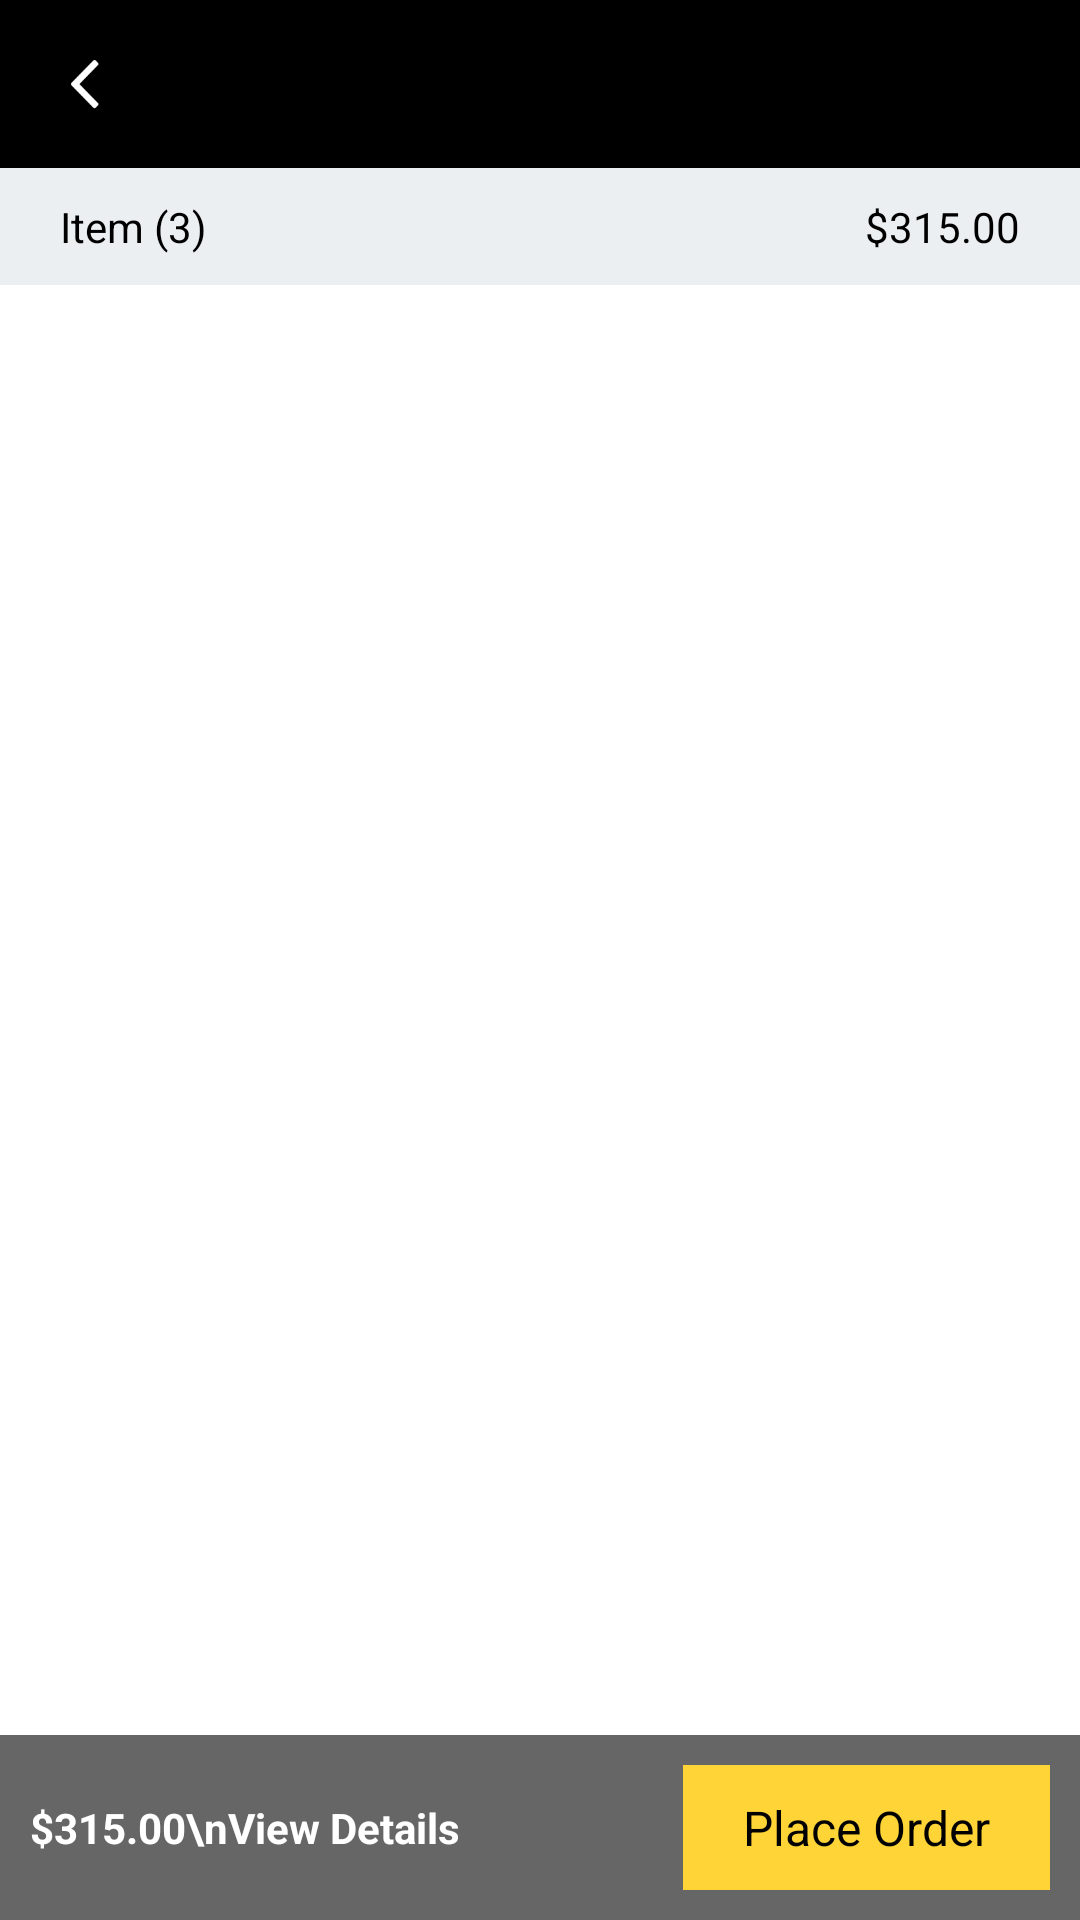

Named icons in this screenshot (1080 x 1920) and their centers, point (x, y):
back: point (85, 84)
